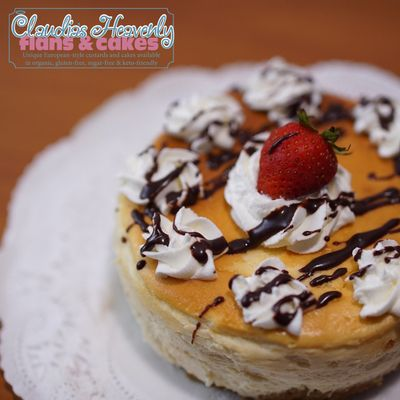sushi: (111, 56, 400, 396)
